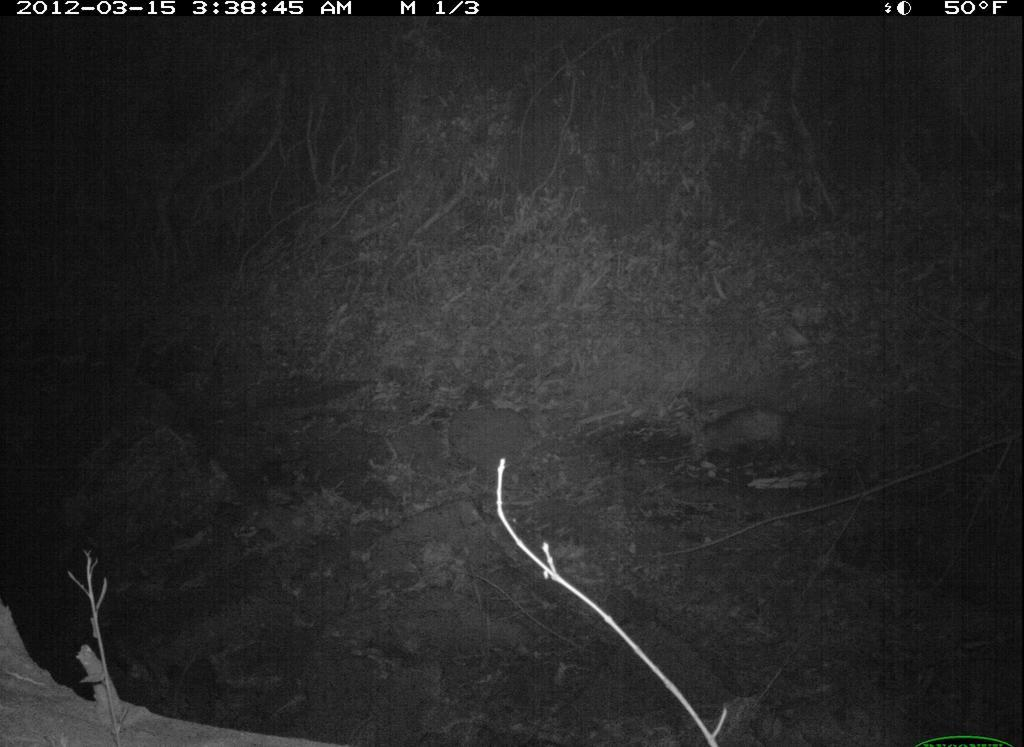opossum: (681, 397, 813, 470)
